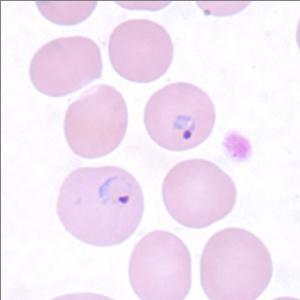Infected: (56, 166, 143, 246), (143, 81, 215, 150)
Uninfected: (163, 158, 238, 229), (199, 229, 272, 300), (62, 83, 129, 159), (29, 35, 103, 98), (128, 232, 192, 300), (108, 20, 174, 83)
